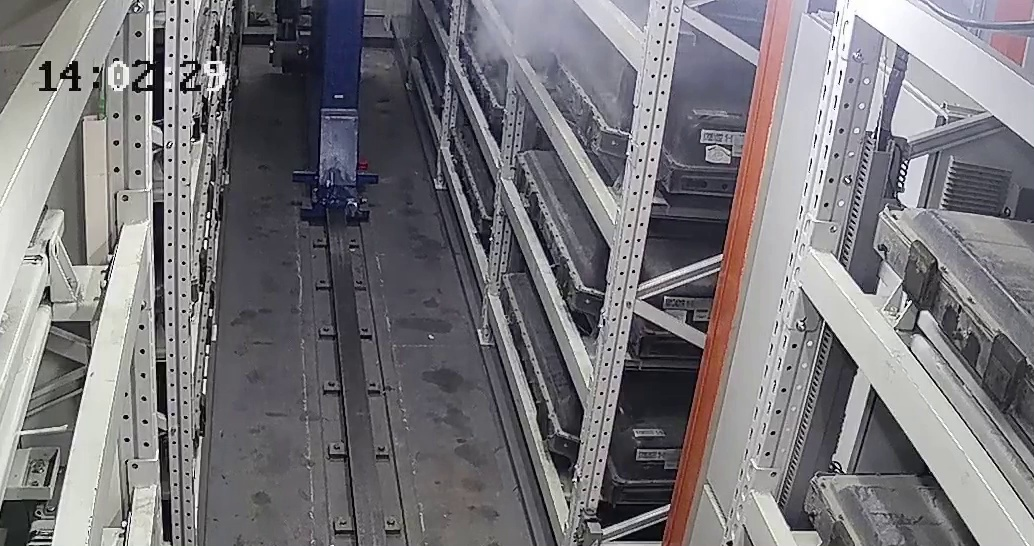smoke: (488, 10, 605, 84)
